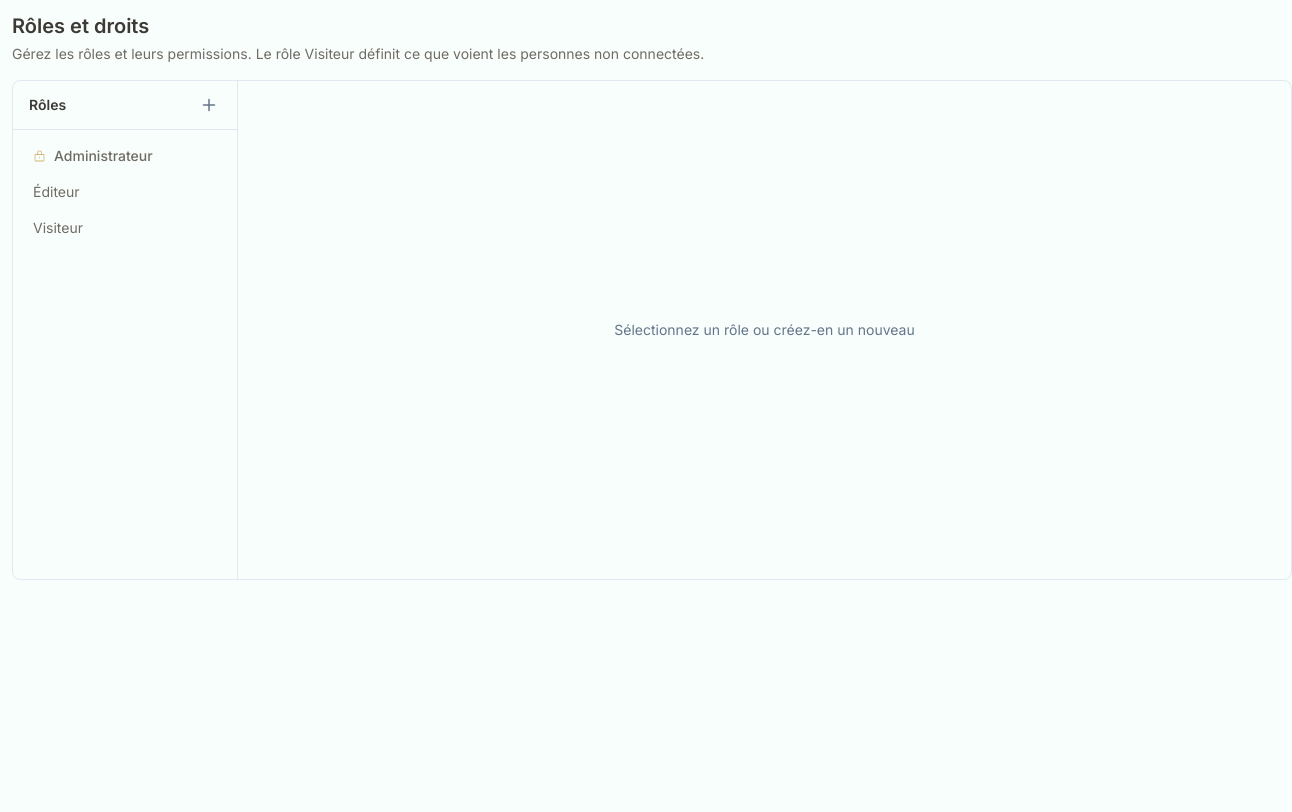
RolesAccessPage › Admin sélectionné : champ nom désactivé
Click the button with test id "role-item-1": (125, 156) [21,138,229,174]
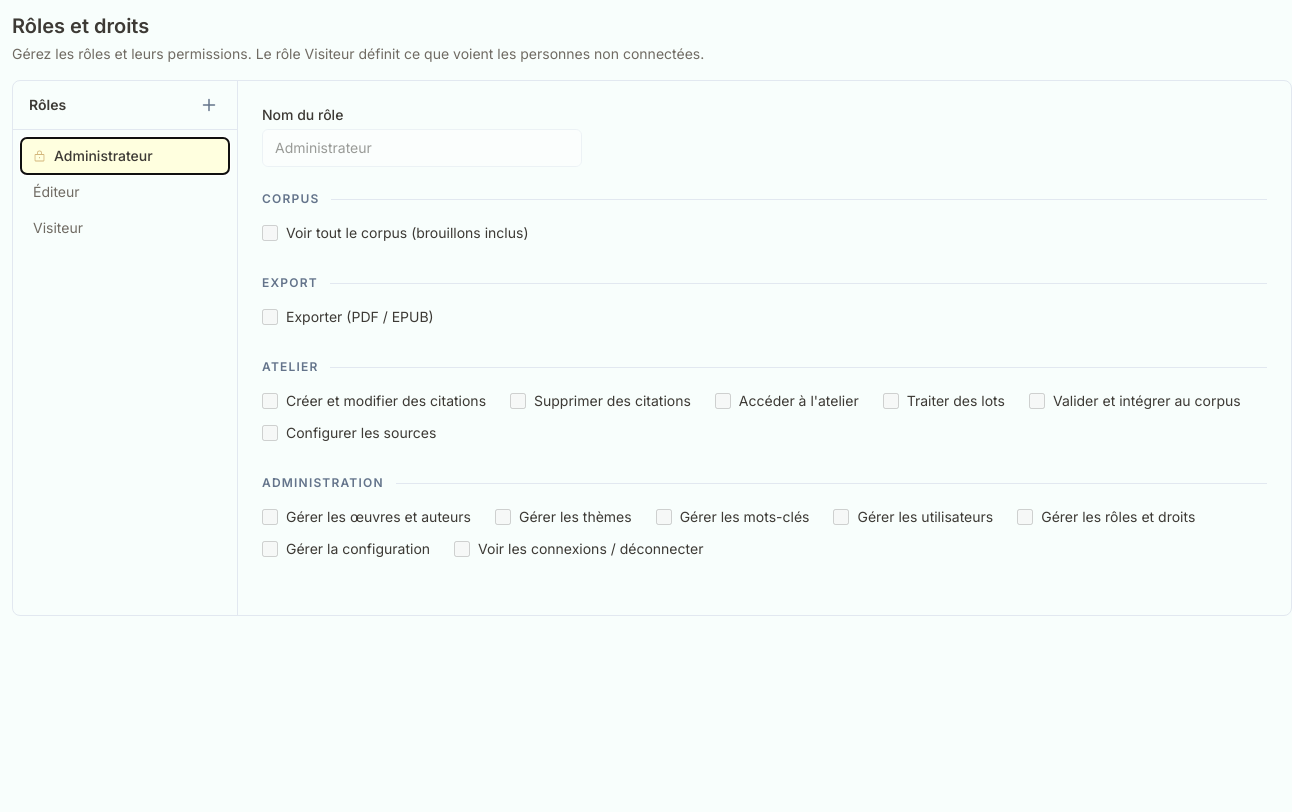
Expected: the field labelled "Nom du rôle" is disabled, [262,129,582,167]
